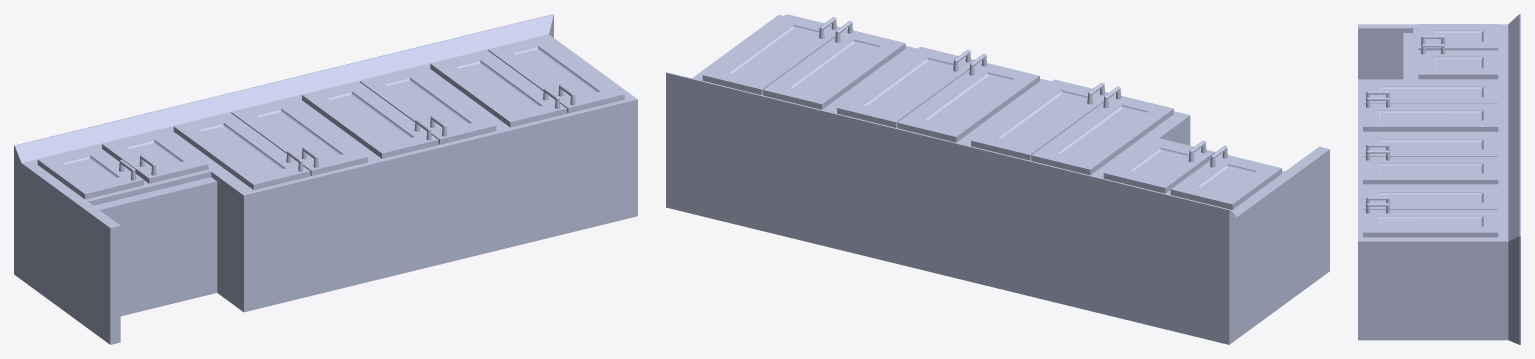
Rendered from Kit_cabinet.dae.
3 views of the same model, side by side, from view 1: azimuth 30°, elevation 25°; view 2: azimuth 150°, elevation 25°; view 3: azimuth 270°, elevation 25° (orthographic). The views are drawn at different scales.
Visible parts, largest first — view 1: node14, node4, node5, node9, node0, node1, node2, node13, node3; view 2: node14, node4, node5, node9, node1, node0, node2, node13, node3; view 3: node14, node1, node0, node2, node9, node4, node5, node3, node13.
Boxes of the visible parts, box(x1,y1,x2,y2) form: node14: box(14, 14, 637, 344); node4: box(302, 81, 438, 158); node5: box(173, 112, 310, 189); node9: box(430, 50, 566, 127); node0: box(360, 67, 496, 144); node1: box(231, 98, 367, 175); node2: box(488, 36, 624, 113); node13: box(37, 145, 143, 199); node3: box(102, 129, 208, 183); node14: box(666, 15, 1329, 344); node4: box(897, 53, 1039, 142); node5: box(1031, 86, 1173, 175); node9: box(763, 21, 905, 109); node1: box(971, 79, 1108, 160); node0: box(837, 46, 974, 127); node2: box(702, 14, 840, 94); node13: box(1170, 145, 1281, 209); node3: box(1103, 137, 1214, 193); node14: box(1358, 14, 1520, 344); node1: box(1363, 97, 1498, 131); node0: box(1363, 150, 1498, 184); node2: box(1363, 209, 1498, 237); node9: box(1363, 185, 1498, 209); node4: box(1363, 133, 1498, 156); node5: box(1363, 80, 1498, 103); node3: box(1418, 50, 1498, 79); node13: box(1418, 24, 1498, 50).
Bounding box in the file's own units: 2.67 × 0.8255 × 0.6286.
